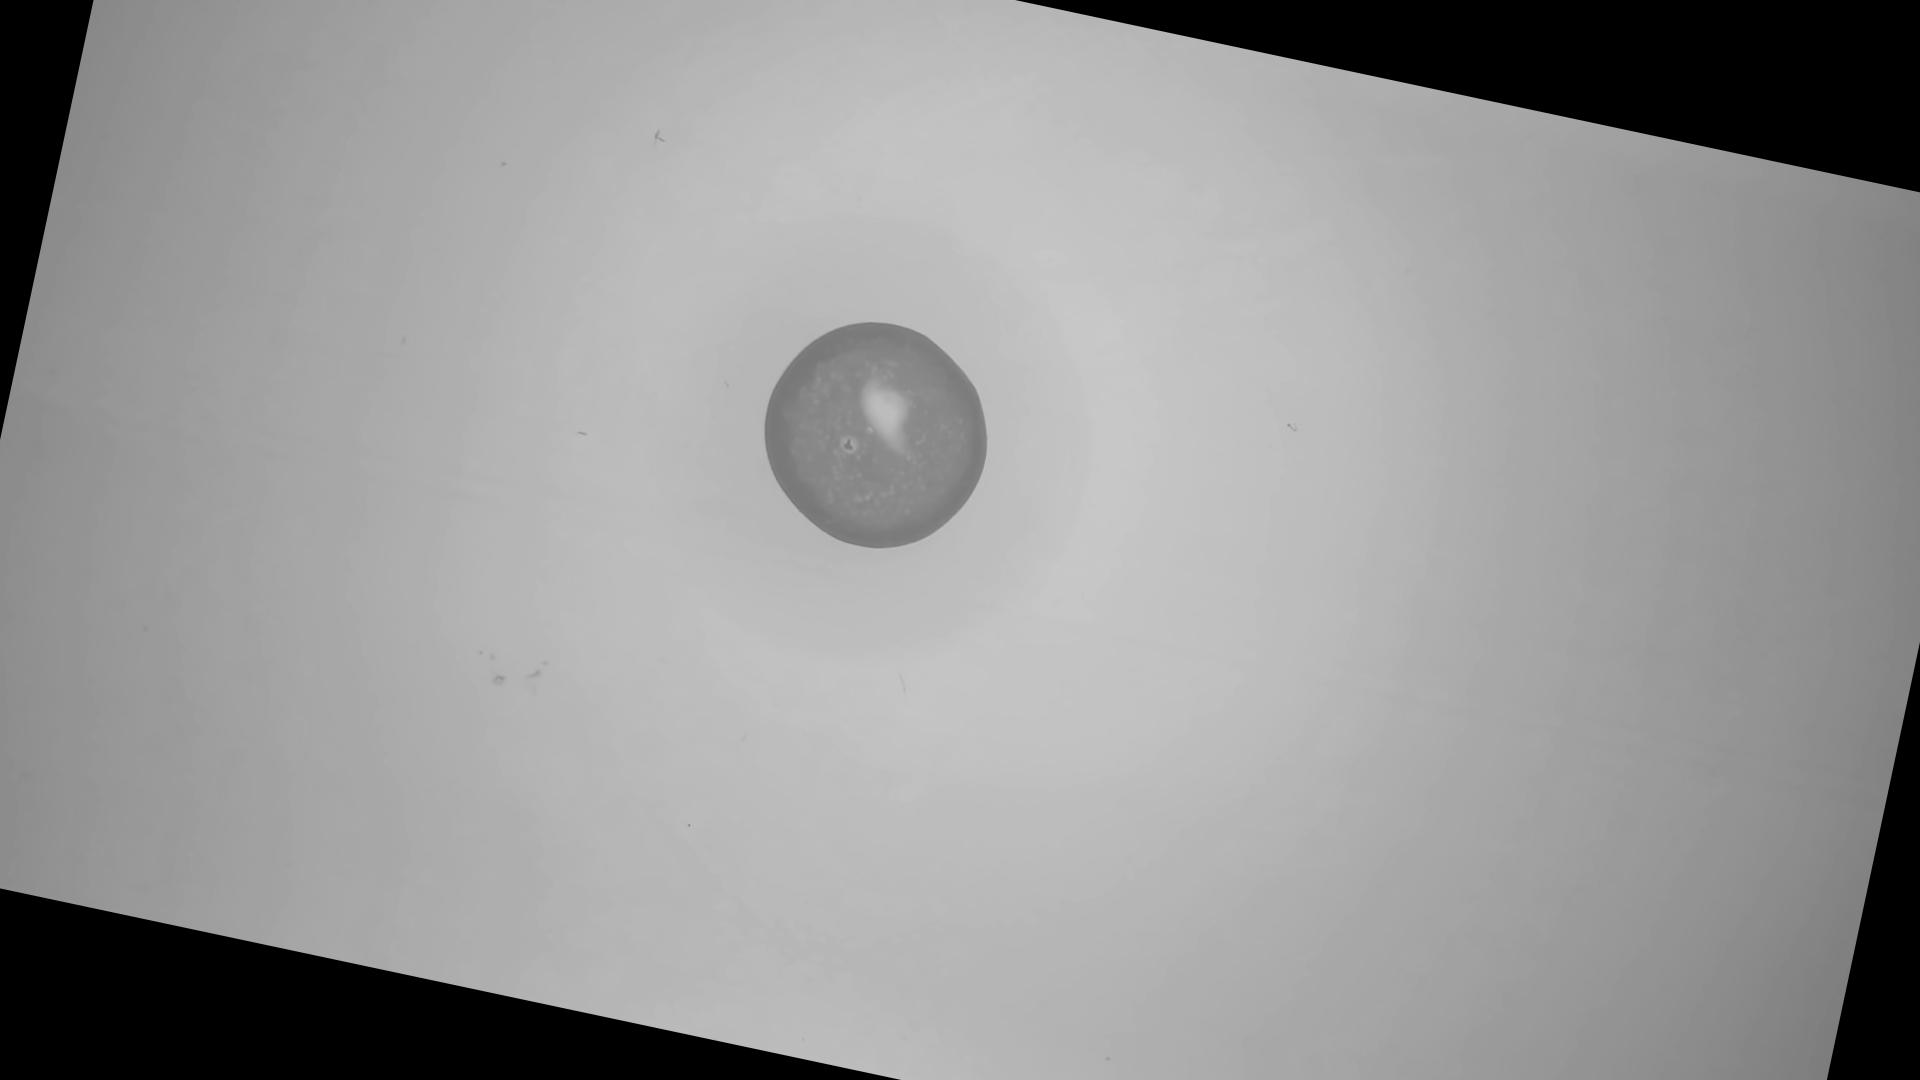abnormal: (738, 301, 1015, 575)
